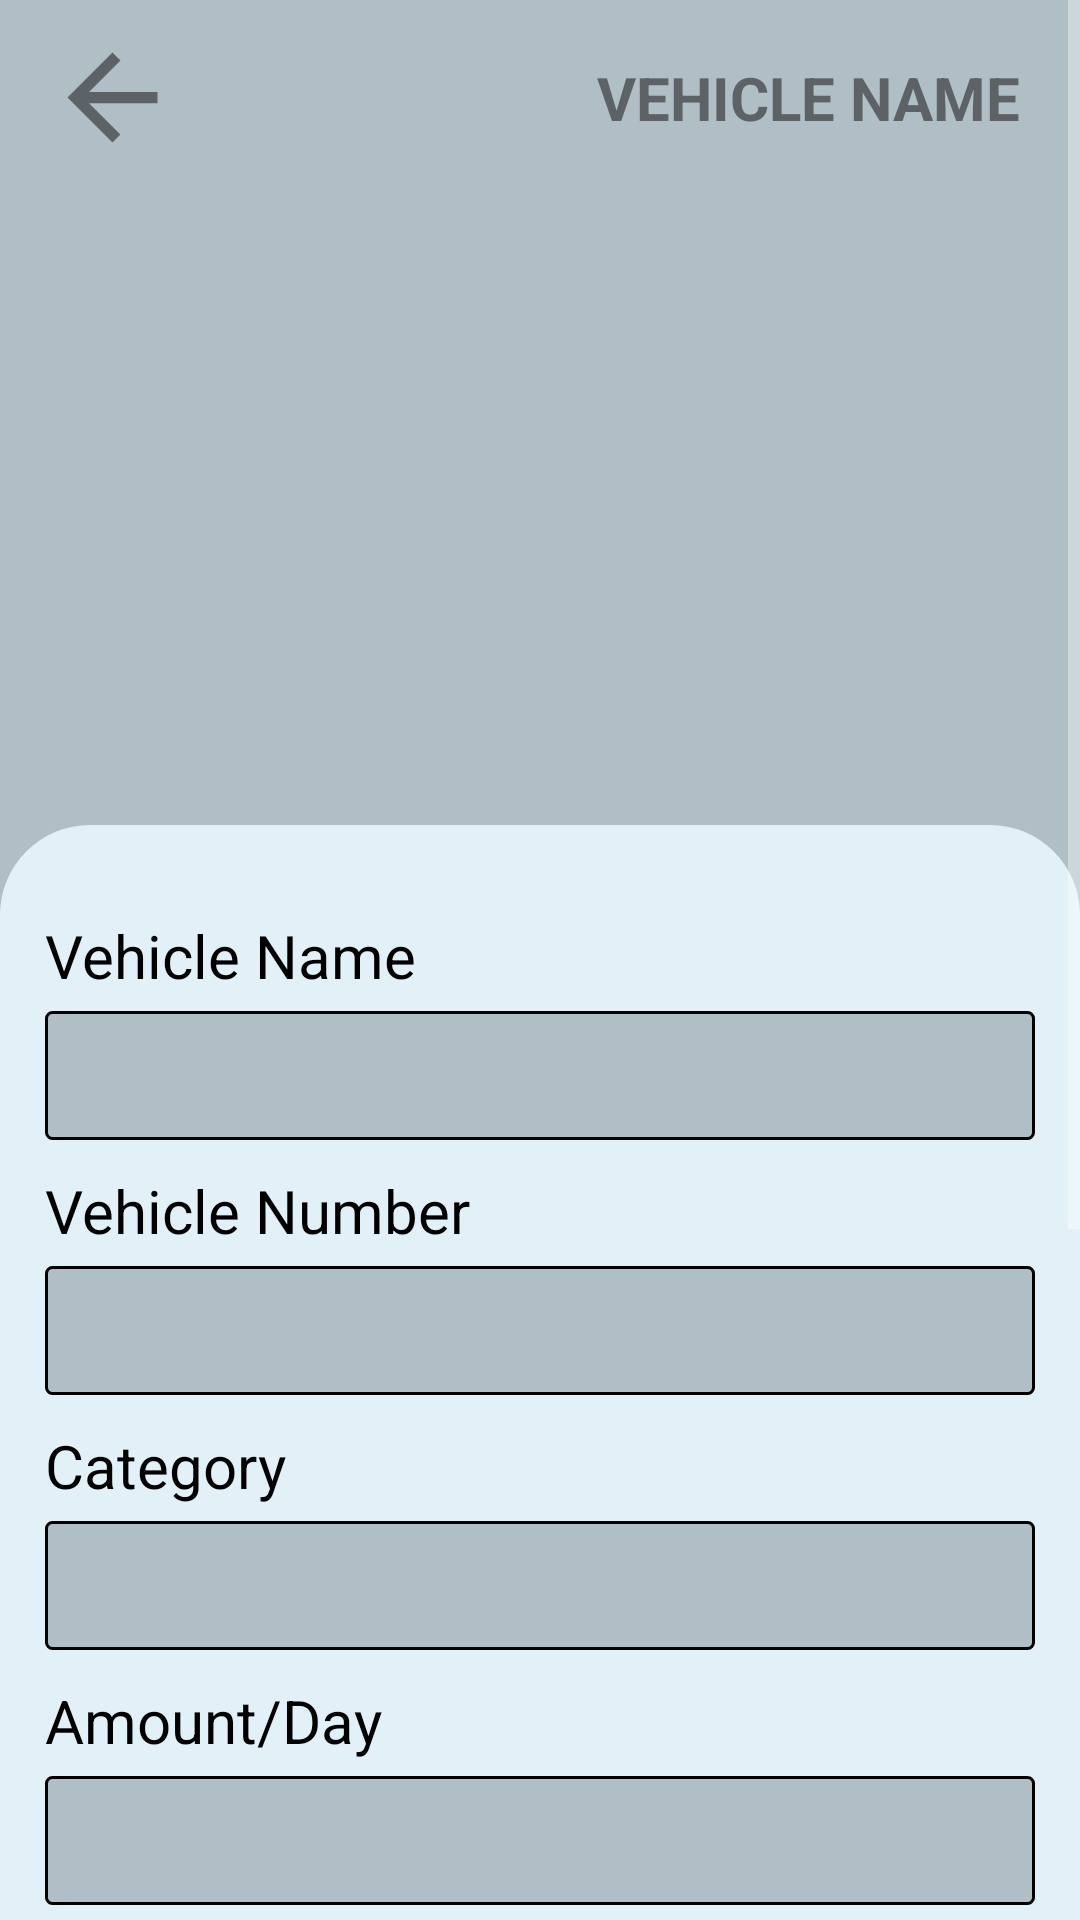

Screen size 1080w x 1920h. Icon name, then its box in pixels as bbox(x1, y1, x2, y2):
back: bbox(68, 53, 158, 142)
